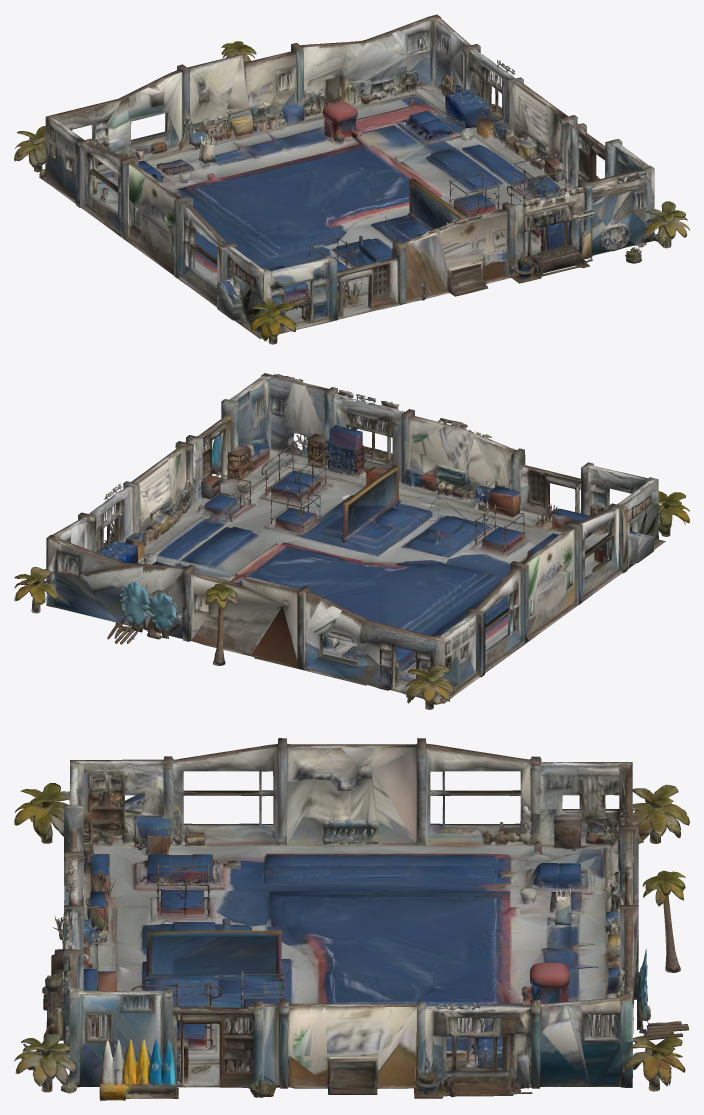
Rendered from gymnastics-gym.glb.
3 views of the same model, one above another, from view 1: azimuth 30°, elevation 25°; view 2: azimuth 150°, elevation 25°; view 3: azimuth 270°, elevation 25° (orthographic). The views are drawn at different scales.
Parts seen in each view (by area): view 1: Mesh_0; view 2: Mesh_0; view 3: Mesh_0.
Boxes of the visible parts, x1,y1,x2,y2 form: Mesh_0: (14,14,689,344); Mesh_0: (14,373,689,709); Mesh_0: (14,738,689,1100).
Bounding box in the file's own units: 1.84 × 0.3155 × 1.9.
1 material, 1 textured.
